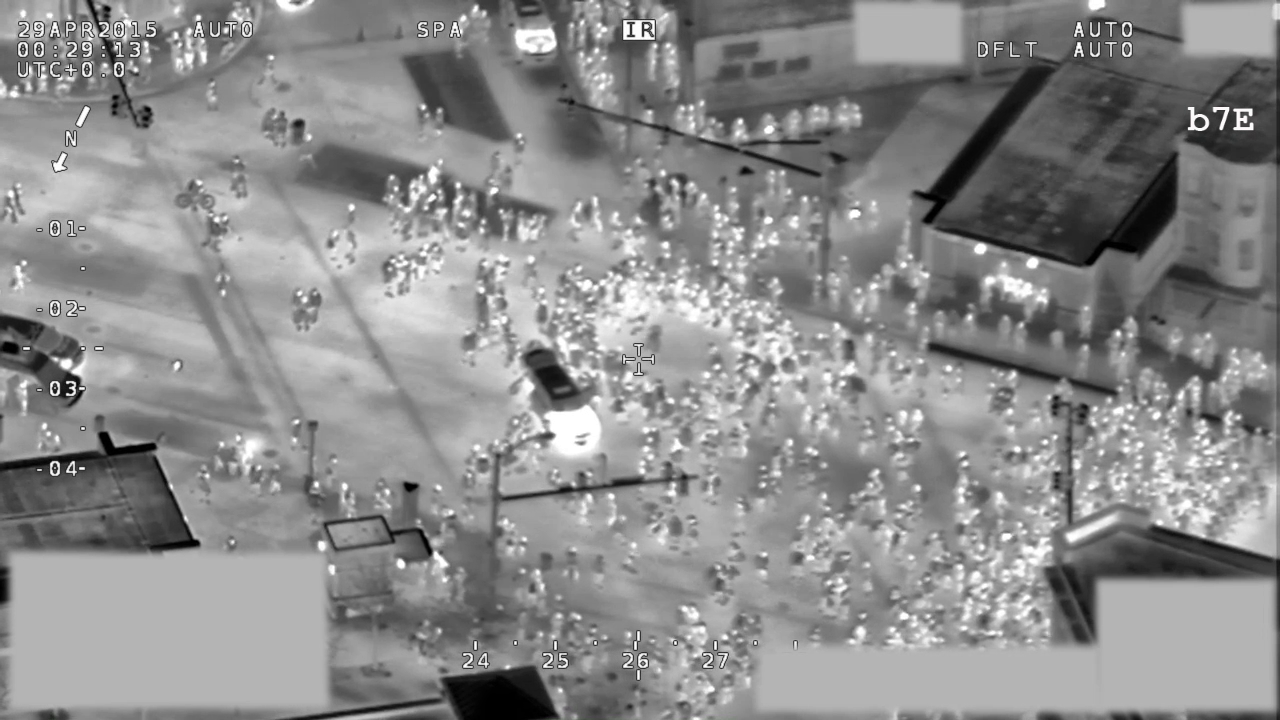vehicle: (508, 342, 606, 459)
